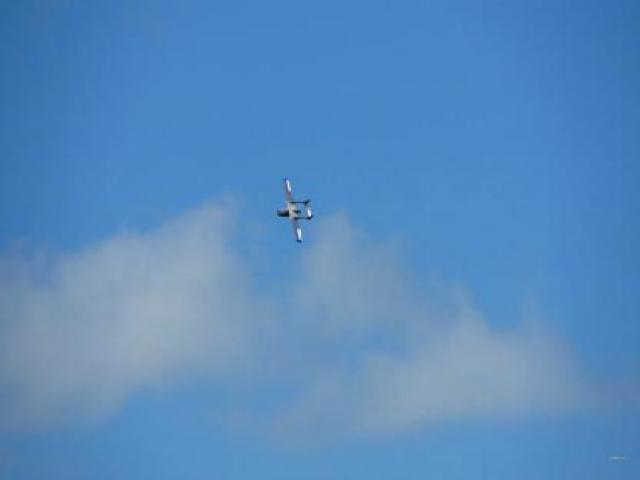uav: (274, 174, 317, 246)
